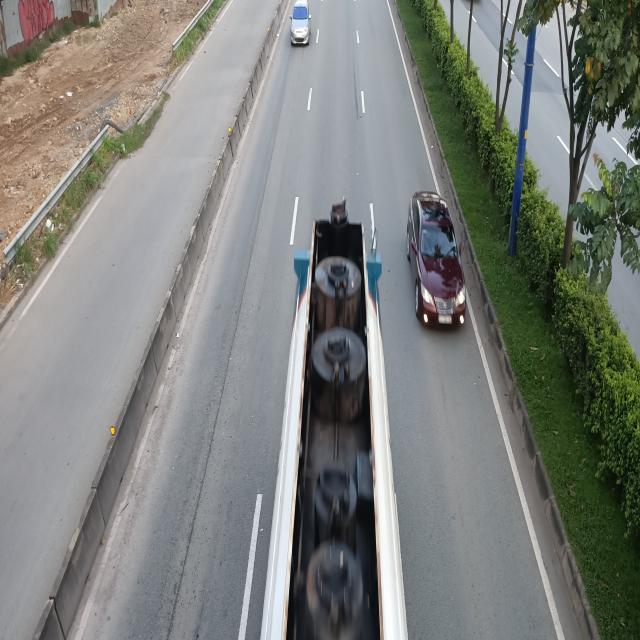car: (406, 193, 466, 333), (290, 0, 311, 45)
container: (268, 204, 397, 640)
